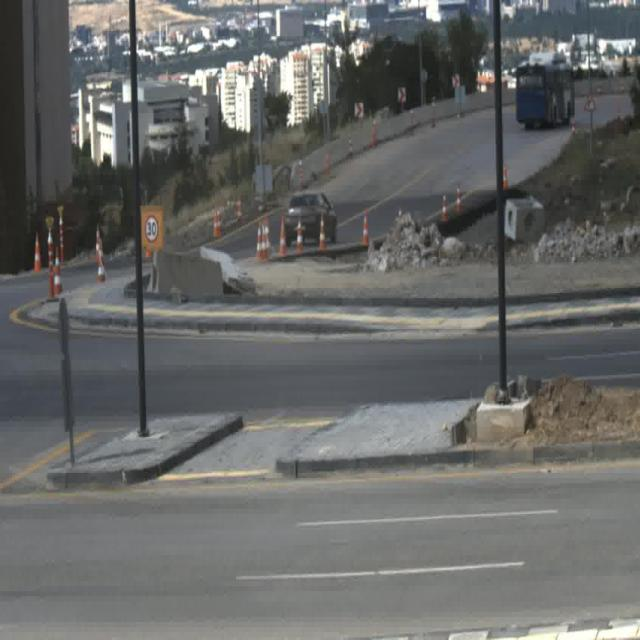Bus: (518, 52, 576, 132)
Car: (284, 186, 336, 243)
